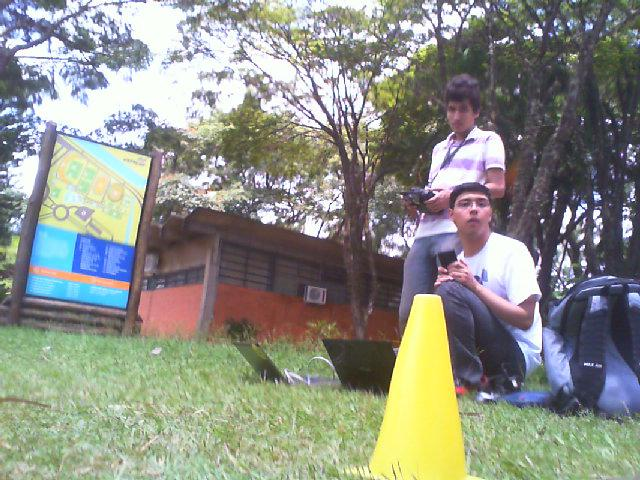0 cone: (351, 294, 484, 480)
